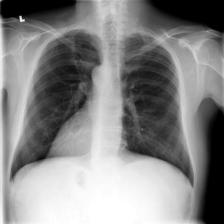normal: (9, 24, 198, 195)
